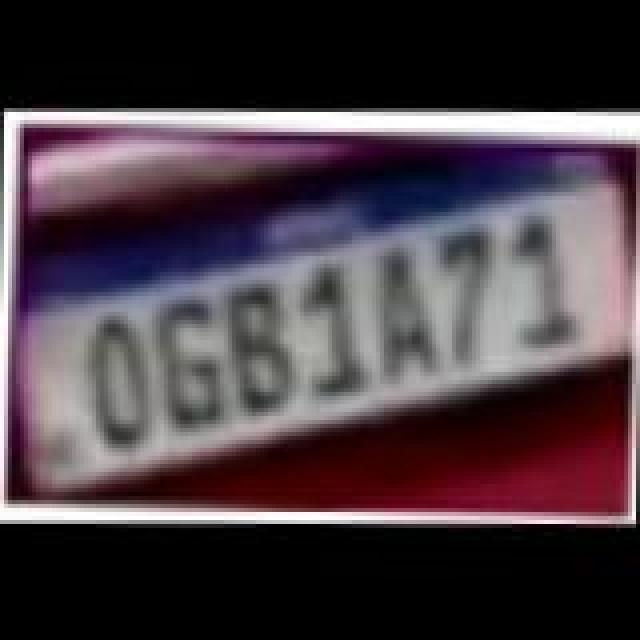1: (298, 260, 374, 396), (506, 216, 582, 348)
7: (438, 228, 506, 364)
A: (372, 244, 444, 384)
B: (224, 282, 304, 414)
G: (152, 298, 232, 430)
O: (84, 310, 160, 446)
